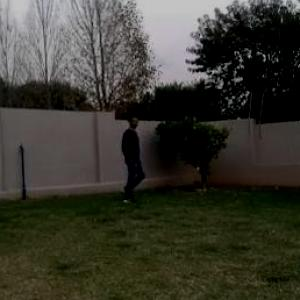follow: (121, 113, 144, 207)
